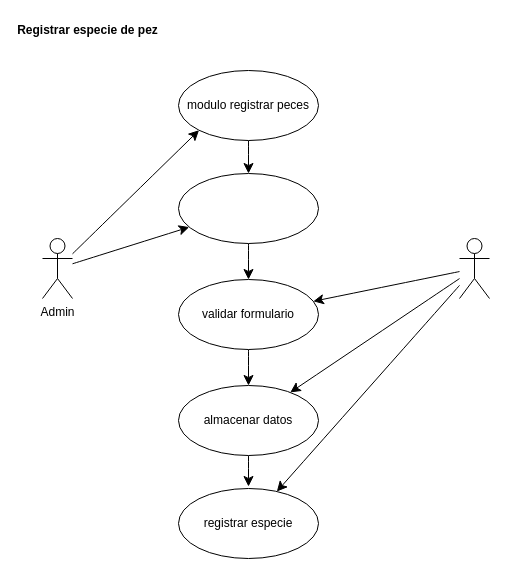
The diagram is 513 pixels wide and 576 high, and some of its shapes have lost their labels. The shapes that lost their labels are listed below. From the top down, each one's centre as x and y in pixels, then its label:
At (x=248, y=208): "llenar formulario".
At (x=474, y=268): "Sistema".
